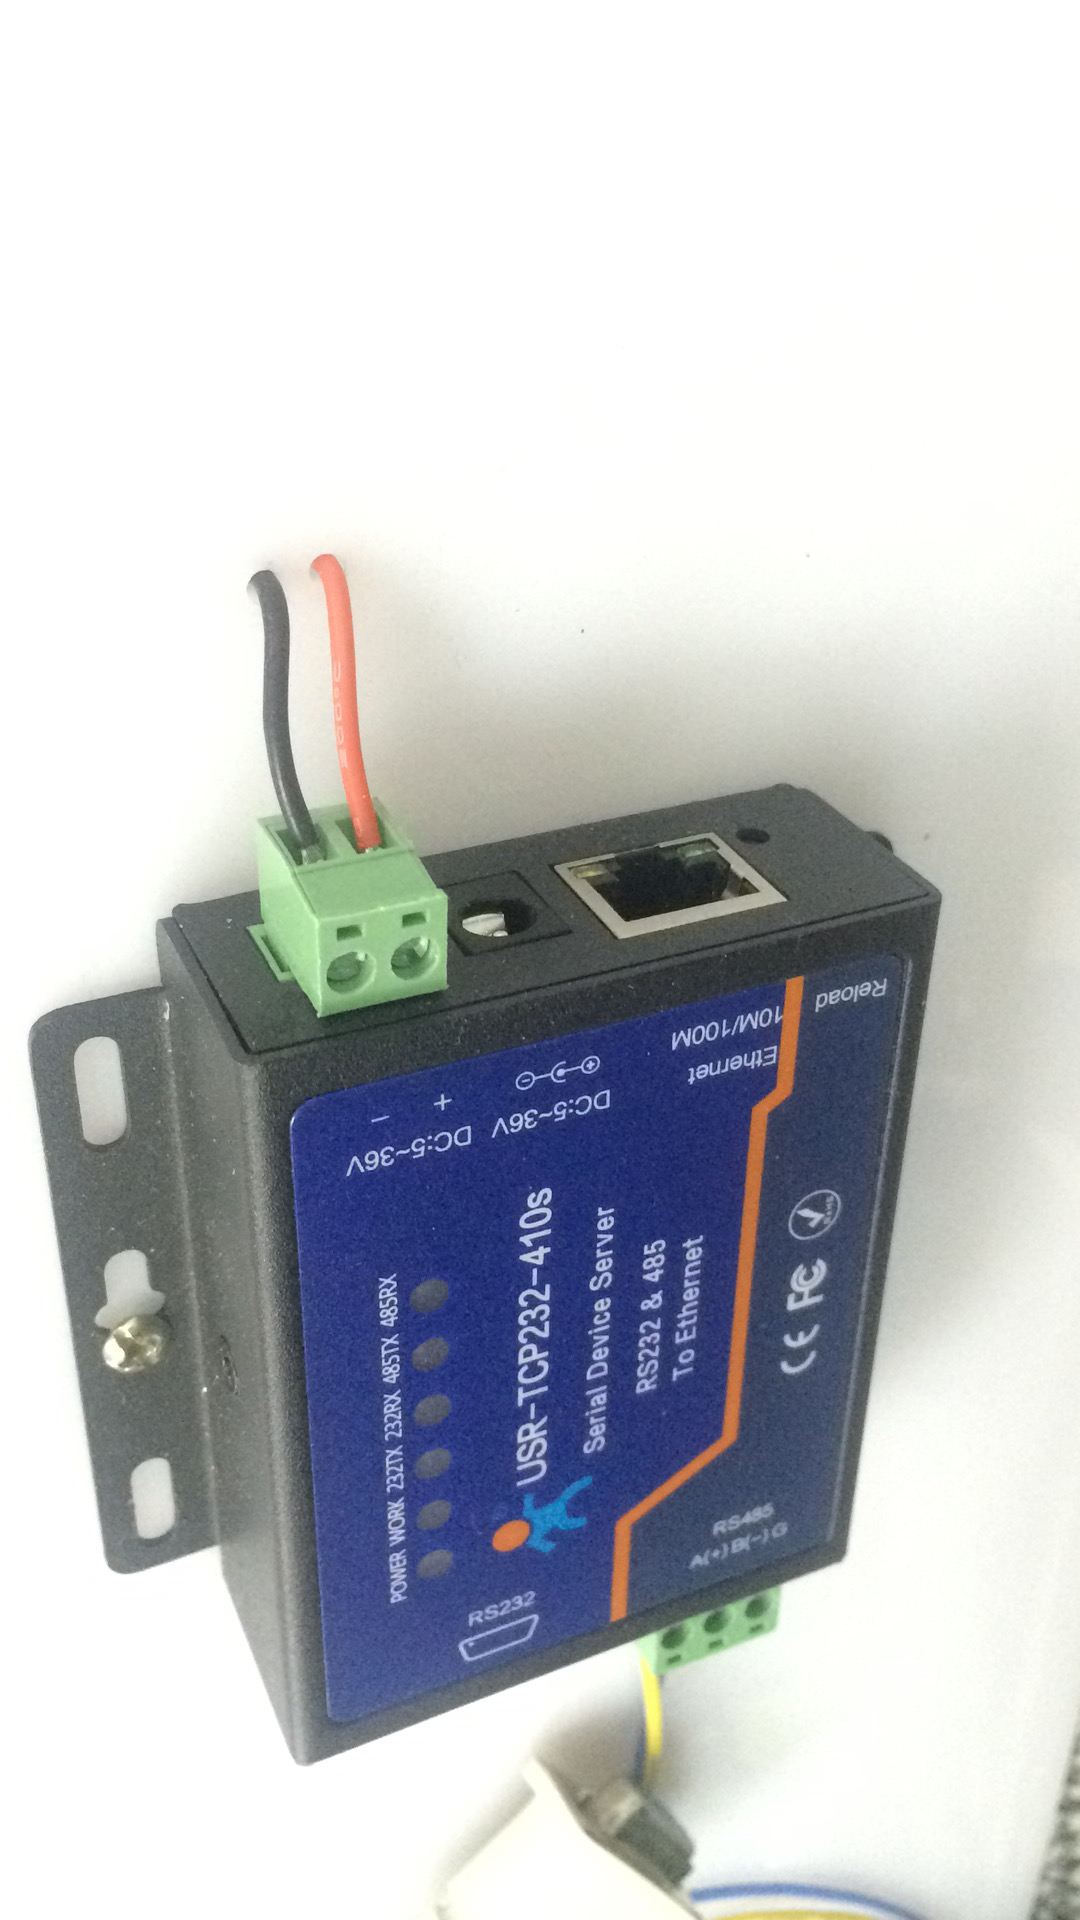modbus bridge: (15, 770, 955, 1784)
